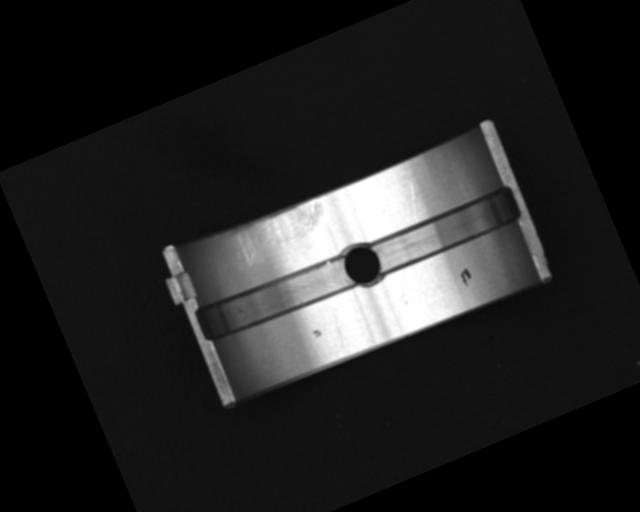blot: (456, 265, 474, 287)
bruise: (310, 327, 322, 339)
gap: (192, 246, 360, 348), (365, 181, 526, 278)
hole: (335, 233, 388, 293)
nick: (400, 180, 427, 222), (329, 314, 348, 347)
scratch: (224, 193, 334, 270)
